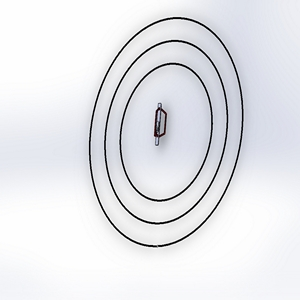circle: (83, 13, 251, 253)
submarine: (141, 92, 176, 153)
